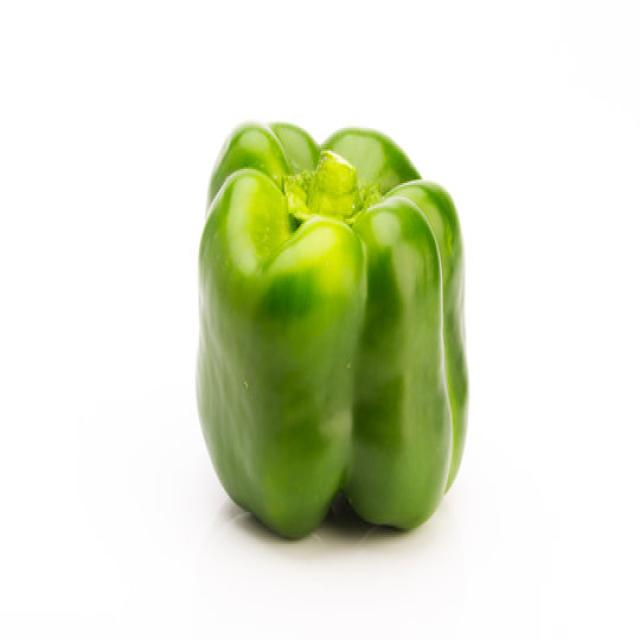Bell Pepper: (195, 119, 470, 541)
